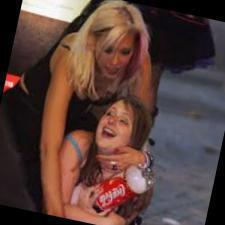Drunk: (96, 106, 135, 150), (97, 31, 132, 76)
